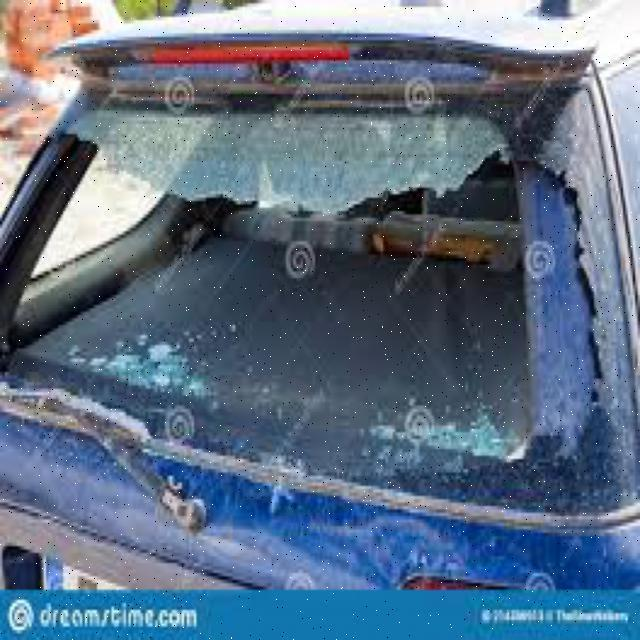Rear-windscreen-Damage: (0, 44, 633, 556)
